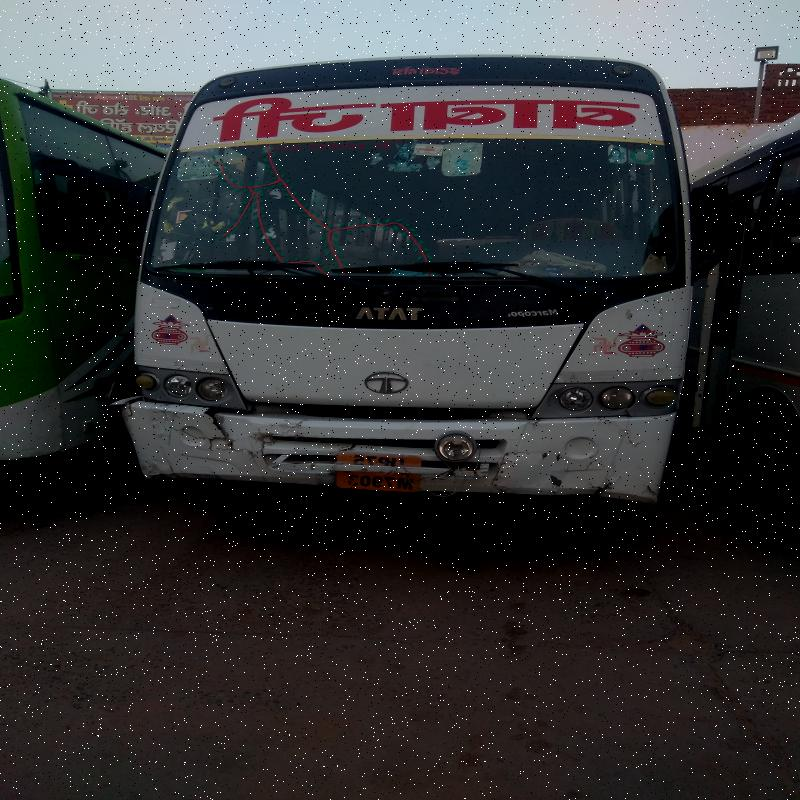bus: (121, 35, 678, 487)
